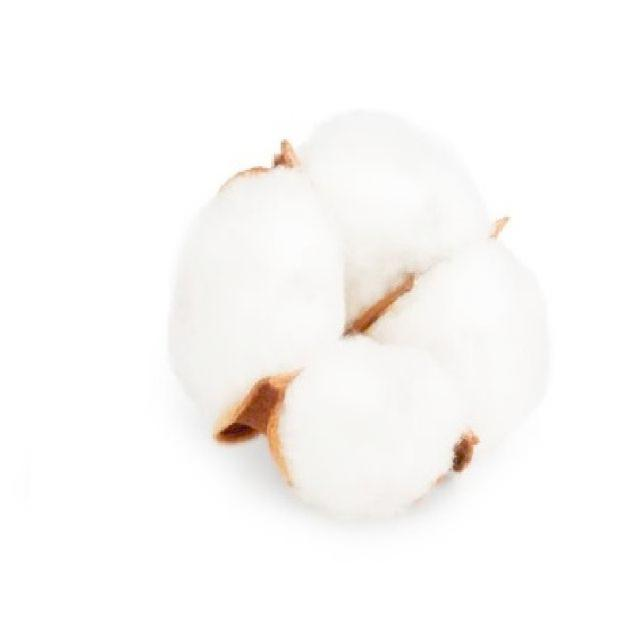Matured Cotton Boll: (165, 101, 553, 521)
